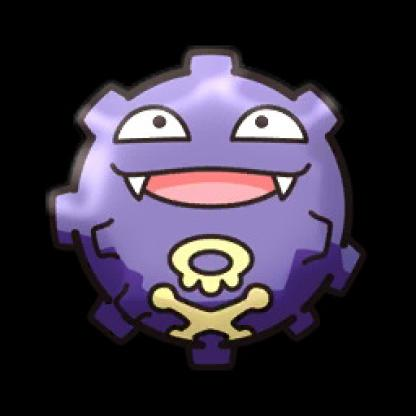Koffing: (54, 44, 373, 371)
